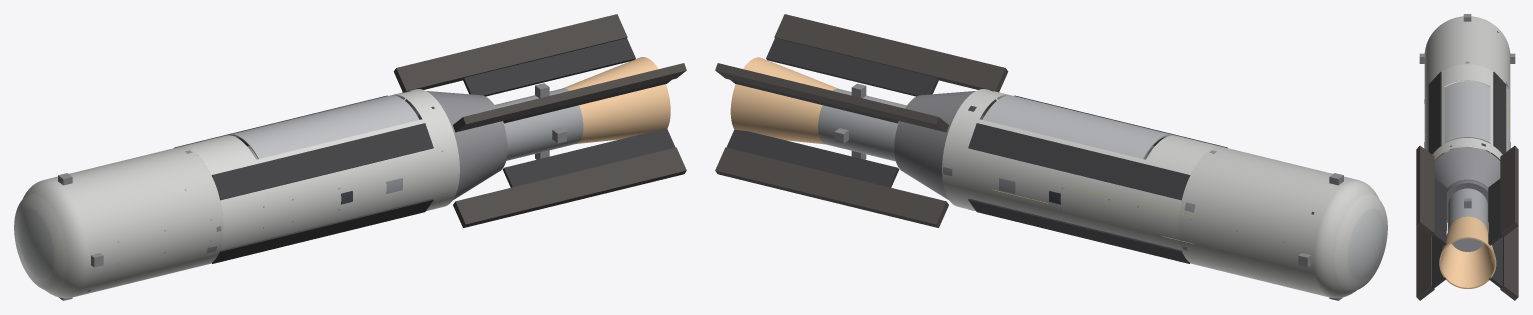
Rendered from wayfarer_I4_in_out_ea1fcb59.glb.
3 renders of one model, left to right at view 1: azimuth 30°, elevation 25°; view 2: azimuth 150°, elevation 25°; view 3: azimuth 270°, elevation 25°, orthographic. The views are drawn at different scales.
Parts seen in each view (by area): view 1: Exterior, crown closed/hull_armor, Exterior, crown closed/radiator, Exterior, crown closed/hotfin, Exterior, crown closed/hull_skin, Exterior, crown closed/door, Exterior, crown closed/nozzle, Exterior, crown closed/thrust_cone, Exterior, crown closed/reactor, Exterior, crown closed/crown_brow, Exterior, crown closed/crown_tambour, Exterior, crown closed/rcs; view 2: Exterior, crown closed/hull_armor, Exterior, crown closed/radiator, Exterior, crown closed/hotfin, Exterior, crown closed/hull_skin, Exterior, crown closed/door, Exterior, crown closed/nozzle, Exterior, crown closed/thrust_cone, Exterior, crown closed/reactor, Exterior, crown closed/crown_brow, Exterior, crown closed/crown_tambour, Exterior, crown closed/rcs; view 3: Exterior, crown closed/hotfin, Exterior, crown closed/radiator, Exterior, crown closed/hull_armor, Exterior, crown closed/nozzle, Exterior, crown closed/door, Exterior, crown closed/hull_skin, Exterior, crown closed/thrust_cone, Exterior, crown closed/reactor, Exterior, crown closed/shield, Exterior, crown closed/rcs.
Part boxes in pixels (x1,y1,x2,y2): Exterior, crown closed/hull_armor: [23, 146, 223, 298]; Exterior, crown closed/radiator: [174, 38, 675, 263]; Exterior, crown closed/hotfin: [393, 14, 686, 227]; Exterior, crown closed/hull_skin: [181, 89, 459, 263]; Exterior, crown closed/door: [228, 95, 419, 158]; Exterior, crown closed/nozzle: [563, 57, 670, 143]; Exterior, crown closed/thrust_cone: [405, 91, 507, 199]; Exterior, crown closed/reactor: [495, 88, 583, 160]; Exterior, crown closed/crown_brow: [14, 194, 66, 291]; Exterior, crown closed/crown_tambour: [17, 208, 53, 279]; Exterior, crown closed/rcs: [58, 83, 566, 300]; Exterior, crown closed/hull_armor: [1178, 146, 1378, 298]; Exterior, crown closed/radiator: [726, 38, 1227, 263]; Exterior, crown closed/hotfin: [715, 14, 1008, 227]; Exterior, crown closed/hull_skin: [942, 89, 1220, 263]; Exterior, crown closed/door: [982, 95, 1173, 158]; Exterior, crown closed/nozzle: [730, 57, 838, 144]; Exterior, crown closed/thrust_cone: [894, 91, 996, 199]; Exterior, crown closed/reactor: [818, 88, 906, 161]; Exterior, crown closed/crown_brow: [1335, 194, 1387, 291]; Exterior, crown closed/crown_tambour: [1348, 208, 1384, 279]; Exterior, crown closed/rcs: [834, 83, 1343, 300]; Exterior, crown closed/hotfin: [1416, 145, 1518, 300]; Exterior, crown closed/radiator: [1428, 71, 1506, 288]; Exterior, crown closed/hull_armor: [1424, 16, 1510, 98]; Exterior, crown closed/nozzle: [1439, 216, 1496, 288]; Exterior, crown closed/door: [1444, 81, 1490, 143]; Exterior, crown closed/hull_skin: [1424, 64, 1510, 159]; Exterior, crown closed/thrust_cone: [1434, 147, 1500, 222]; Exterior, crown closed/reactor: [1447, 188, 1487, 251]; Exterior, crown closed/shield: [1446, 180, 1488, 221]; Exterior, crown closed/rcs: [1419, 14, 1515, 230].
Size of the model in its own units: 53.3 by 10 by 10.73.
